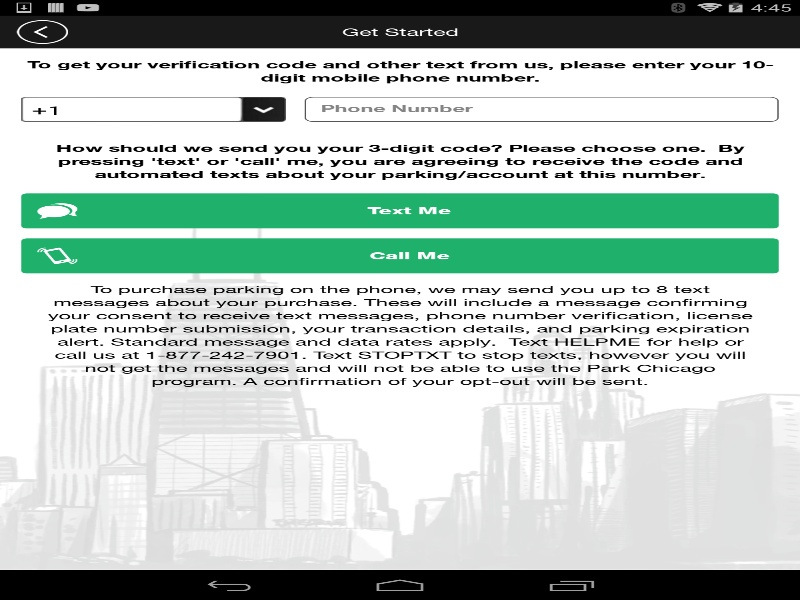Button: (21, 193, 778, 228), (21, 238, 778, 273)
Input: (304, 96, 778, 121)
